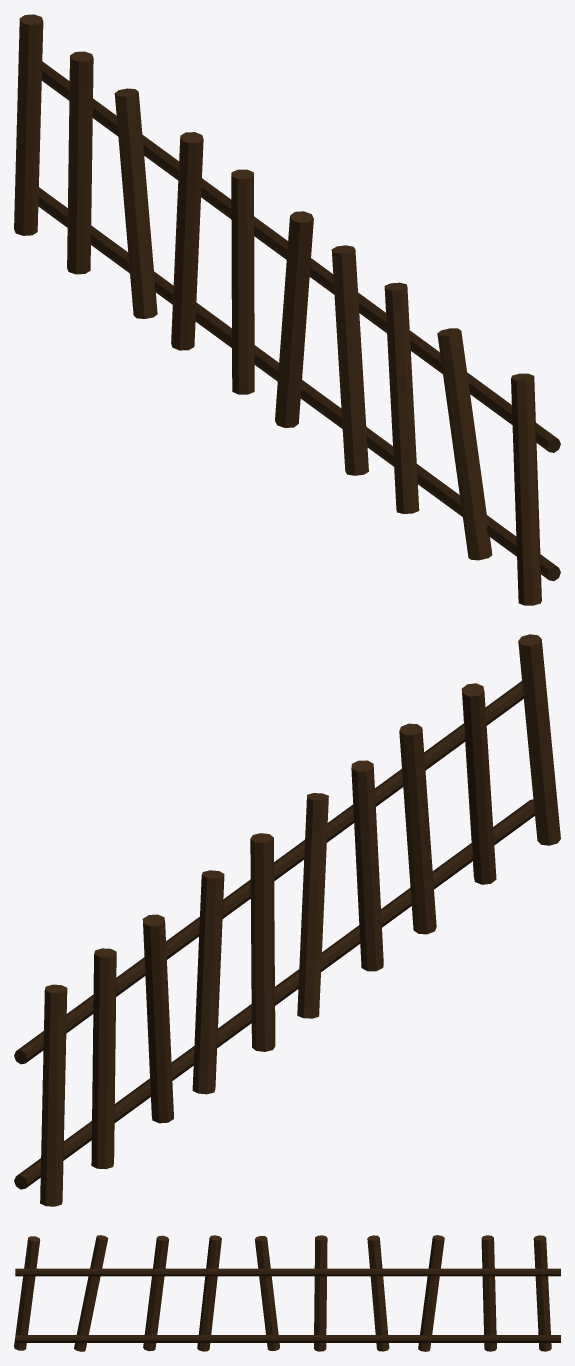
The model's file is vayavaya.fbx.
3 renders of one model, top to bottom at view 1: azimuth 30°, elevation 25°; view 2: azimuth 150°, elevation 25°; view 3: azimuth 270°, elevation 25°, orthographic. The views are drawn at different scales.
Parts seen in each view (by area): view 1: Cylinder.138; view 2: Cylinder.138; view 3: Cylinder.138.
Boxes of the visible parts, x1,y1,x2,y2 form: Cylinder.138: [14, 14, 560, 605]; Cylinder.138: [14, 634, 560, 1206]; Cylinder.138: [14, 1235, 560, 1351].
Bounding box in the file's own units: 24.73 × 135 × 599.
